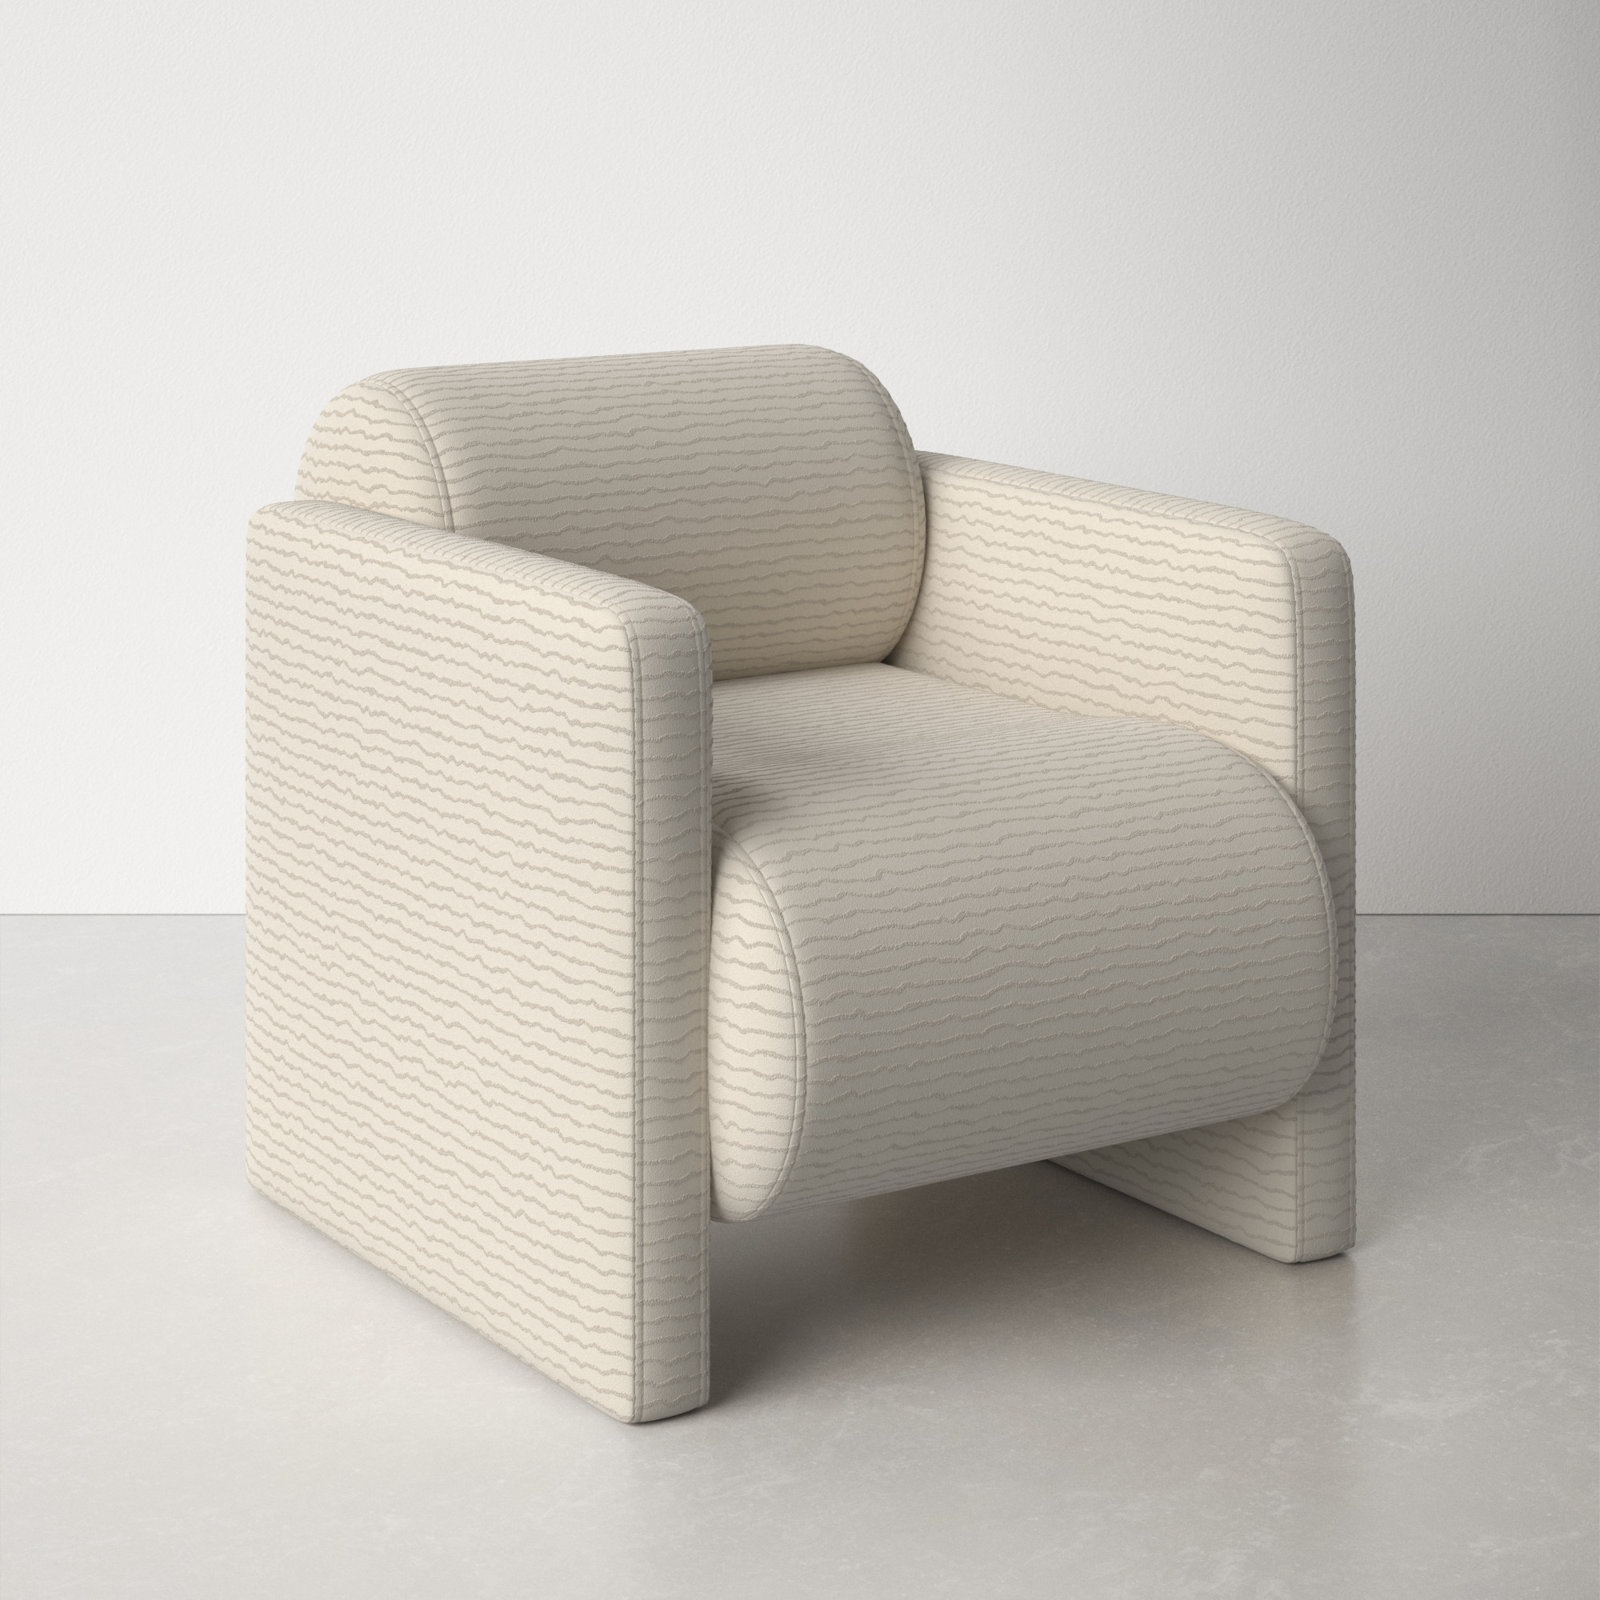obstacle: (248, 347, 1352, 1420)
